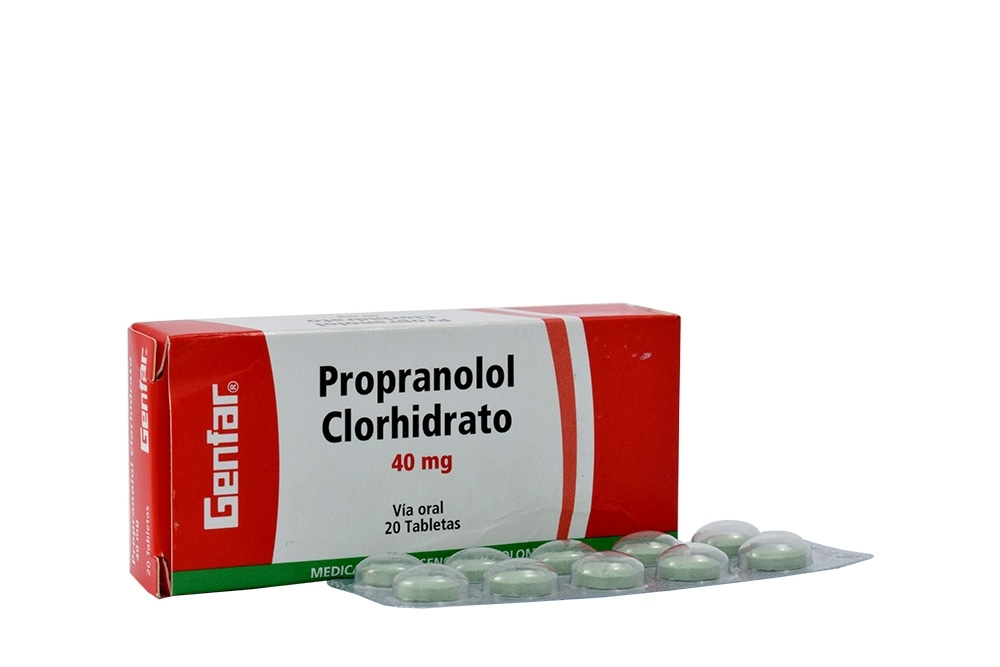Genfar: (165, 326, 681, 597)
